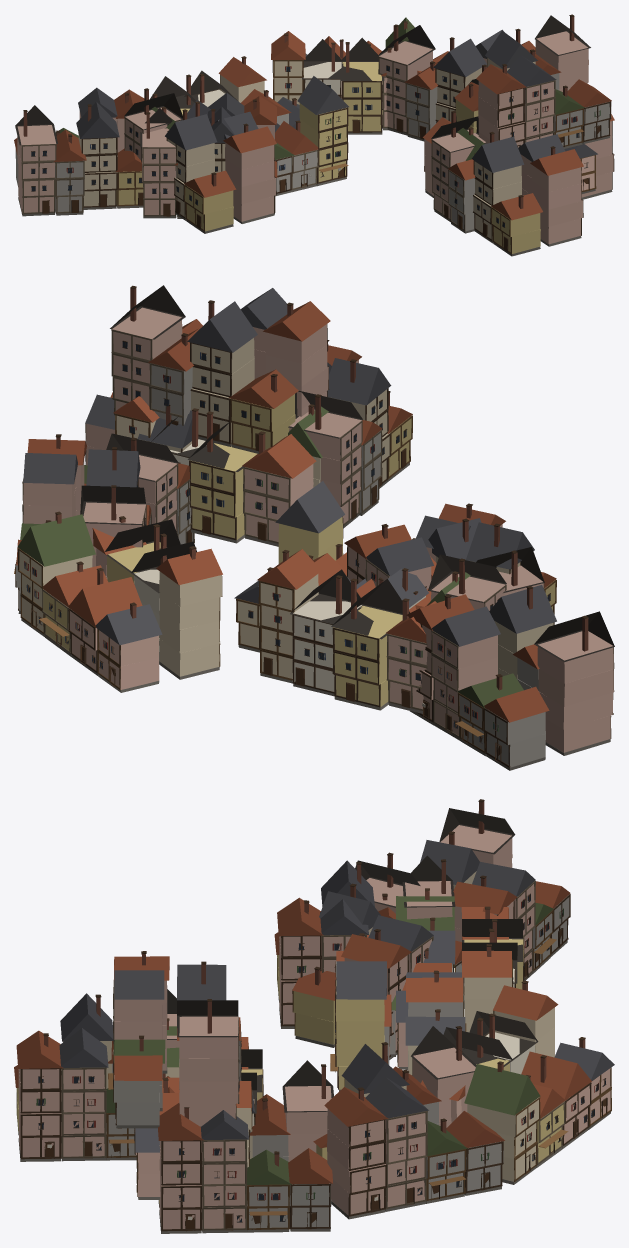
File: modular_house_blocks_2.glb
3 views of the same model, one above another, from view 1: azimuth 30°, elevation 25°; view 2: azimuth 150°, elevation 25°; view 3: azimuth 270°, elevation 25° (orthographic). The views are drawn at different scales.
Parts seen in each view (by area): view 1: CityBlock_Var03.005, CityBlock_Var03.004, CityBlock_Var03.002, CityBlock_Var03.003, CityBlock_Var03.001, CityBlock_Var02, CityBlock_Var01, CityBlock_Var03, CityBlock_Var02.001, CityBlock_Var02.002, CityBlock_Var03.006; view 2: CityBlock_Var03.002, CityBlock_Var02, CityBlock_Var03.004, CityBlock_Var02.001, CityBlock_Var02.002, CityBlock_Var03.005, CityBlock_Var03.001, CityBlock_Var01, CityBlock_Var03.006, CityBlock_Var03, CityBlock_Var03.003; view 3: CityBlock_Var03.001, CityBlock_Var03.006, CityBlock_Var02, CityBlock_Var03.004, CityBlock_Var03.005, CityBlock_Var03.002, CityBlock_Var01, CityBlock_Var03, CityBlock_Var03.003, CityBlock_Var02.001, CityBlock_Var02.002.
Part boxes in pixels (x1,y1,x2,y2): CityBlock_Var03.005: [431, 110, 583, 256]; CityBlock_Var03.004: [454, 14, 611, 148]; CityBlock_Var03.002: [14, 87, 144, 216]; CityBlock_Var03.003: [124, 88, 276, 233]; CityBlock_Var03.001: [377, 24, 535, 141]; CityBlock_Var02: [271, 17, 421, 134]; CityBlock_Var01: [182, 76, 348, 196]; CityBlock_Var03: [140, 93, 277, 218]; CityBlock_Var02.001: [150, 56, 279, 132]; CityBlock_Var02.002: [423, 117, 597, 197]; CityBlock_Var03.006: [469, 64, 614, 199]; CityBlock_Var03.002: [406, 585, 614, 770]; CityBlock_Var02: [17, 511, 222, 692]; CityBlock_Var03.004: [110, 285, 330, 453]; CityBlock_Var02.001: [257, 549, 470, 713]; CityBlock_Var02.002: [113, 396, 328, 546]; CityBlock_Var03.005: [288, 340, 412, 528]; CityBlock_Var03.001: [14, 434, 151, 613]; CityBlock_Var01: [234, 481, 436, 652]; CityBlock_Var03.006: [84, 392, 194, 544]; CityBlock_Var03: [344, 518, 544, 595]; CityBlock_Var03.003: [415, 503, 556, 624]; CityBlock_Var03.001: [313, 1026, 504, 1219]; CityBlock_Var03.006: [158, 1060, 333, 1233]; CityBlock_Var02: [420, 980, 614, 1184]; CityBlock_Var03.004: [108, 951, 241, 1128]; CityBlock_Var03.005: [14, 989, 179, 1161]; CityBlock_Var03.002: [420, 799, 570, 980]; CityBlock_Var01: [330, 917, 466, 1091]; CityBlock_Var03: [292, 852, 464, 1059]; CityBlock_Var03.003: [274, 855, 455, 1028]; CityBlock_Var02.001: [396, 888, 524, 1069]; CityBlock_Var02.002: [134, 1018, 263, 1199].
Bounding box in the file's own units: 86.92 × 29.21 × 71.74.
